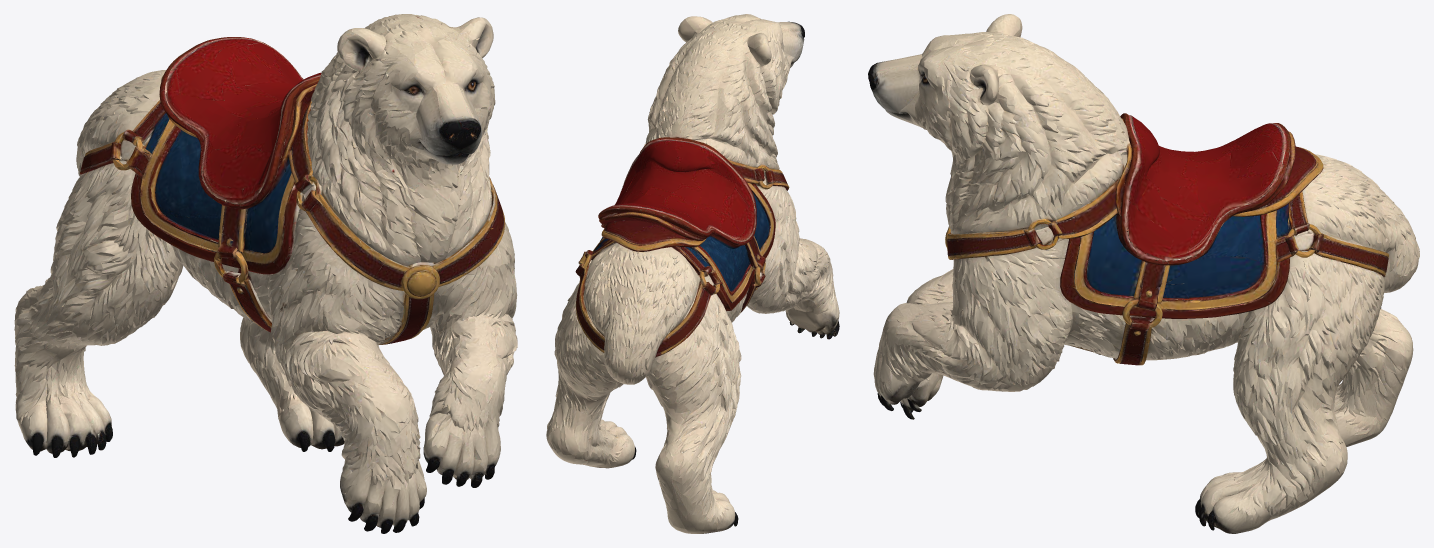
File: polar-bear.glb
The picture shows the model from 3 angles, left to right: view 1: azimuth 30°, elevation 25°; view 2: azimuth 150°, elevation 25°; view 3: azimuth 270°, elevation 25°; orthographic projection. The views are drawn at different scales.
Bounding box in the file's own units: 1.06 × 1.77 × 1.9.
Materials: 1 (1 with a texture image).
